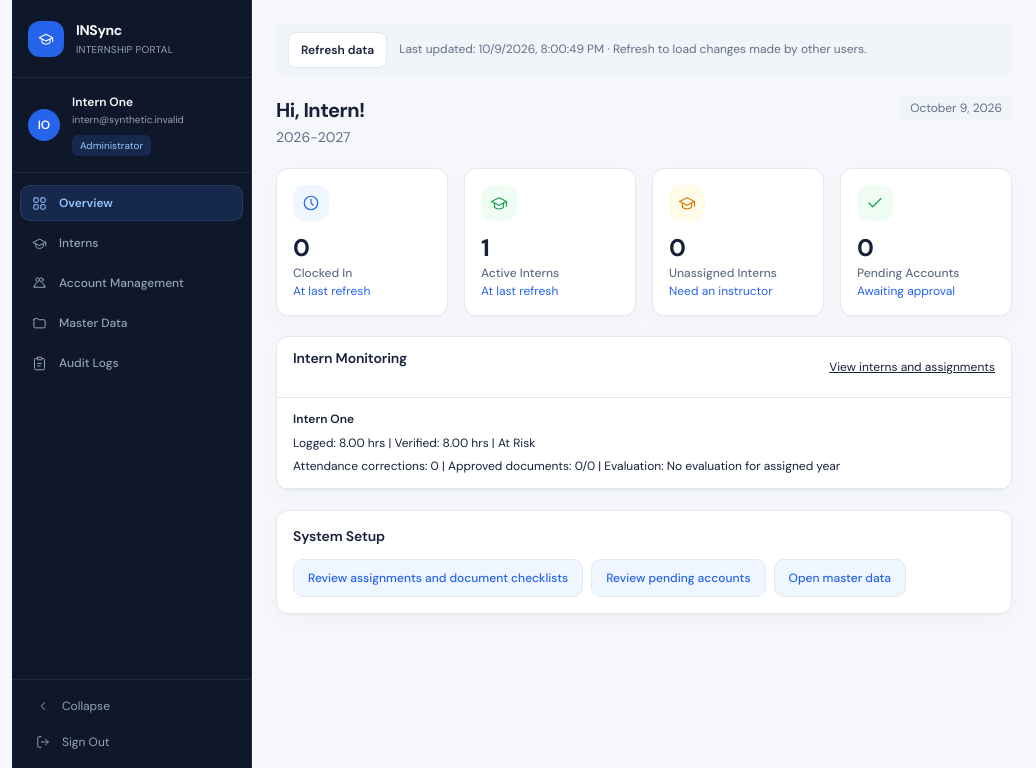
Scenario: prioritizes Admin intern oversight while preserving master data and audit access
Check: the element named "Intern monitoring overview" shows "Verified: 8.00 hrs", box [276,336,1012,490]
Click the button "Review assignments and document checklists": (438,578) [293,558,583,596]
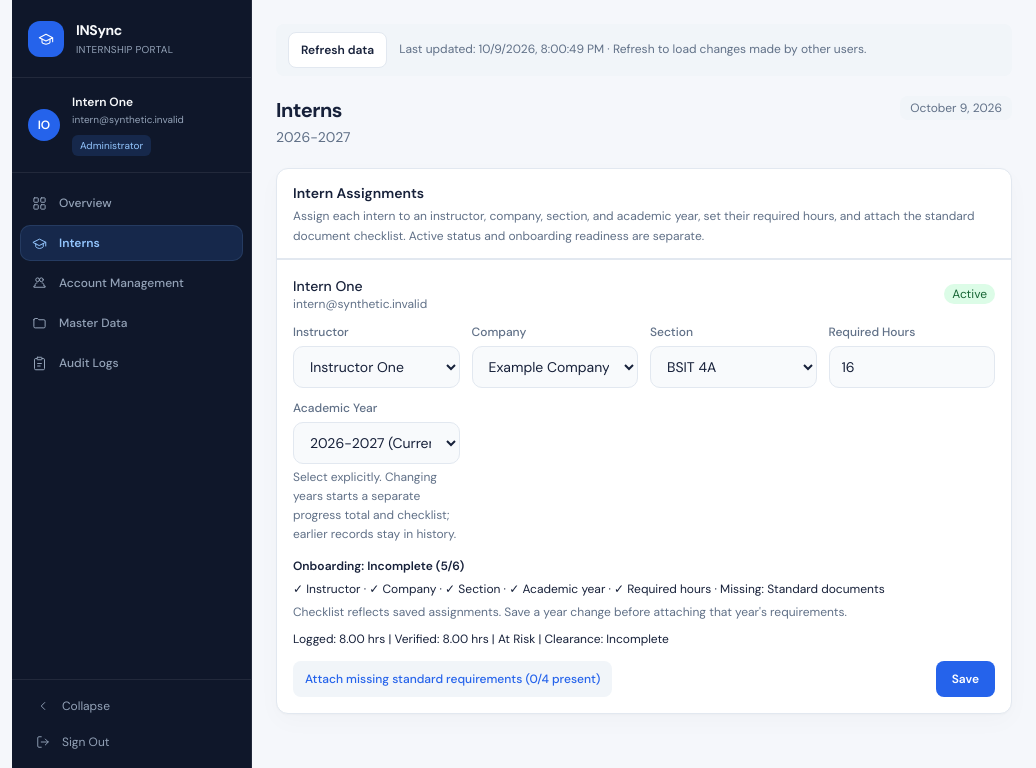
Check: the text "Intern Assignments" is shown, box [293,184,424,202]
Click the button "Audit Logs": (132,363) [20,345,243,381]
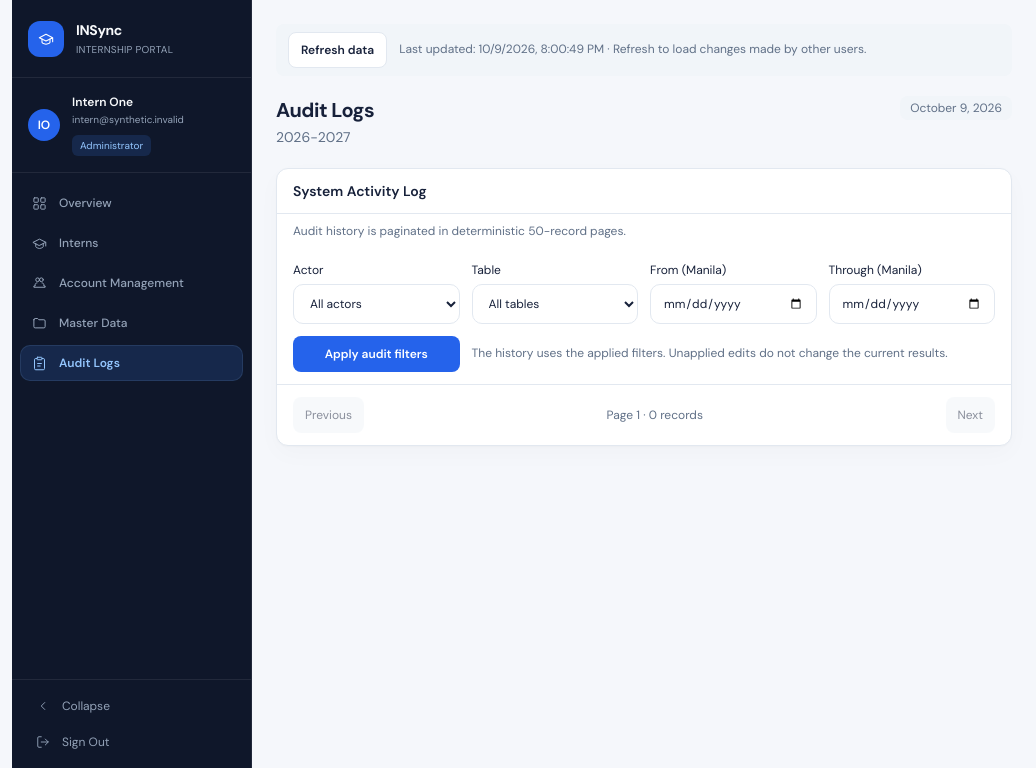
Check: the text "Apply audit filters" is shown, box [293,336,460,372]
Click the button "Master Data": (132,323) [20,305,243,341]
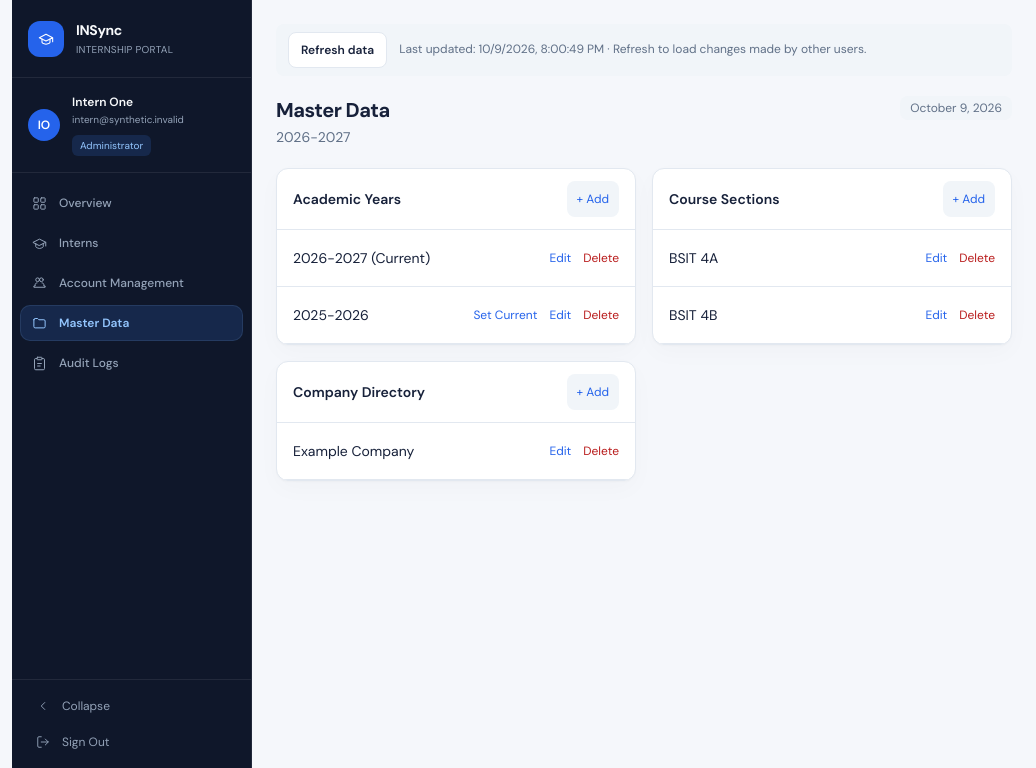
Check: the text "Course Sections" is shown, box [669,189,780,209]
